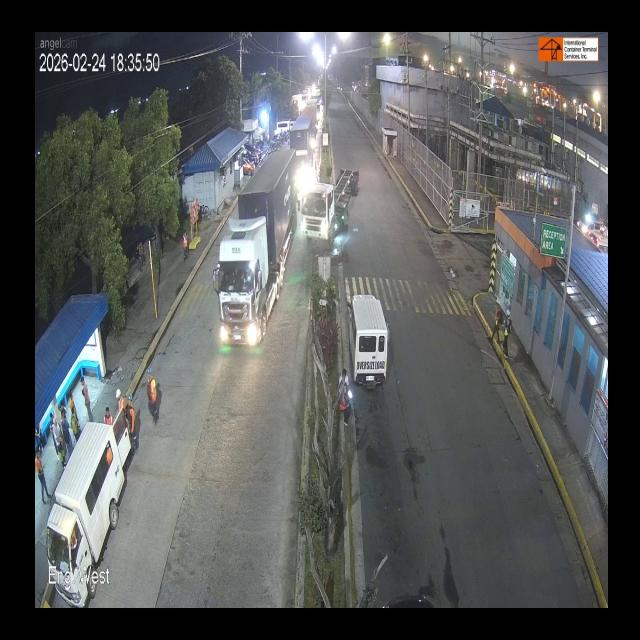car: (53, 411, 133, 597), (348, 286, 391, 386)
truck: (217, 158, 299, 340), (306, 168, 358, 245), (288, 115, 316, 189)
